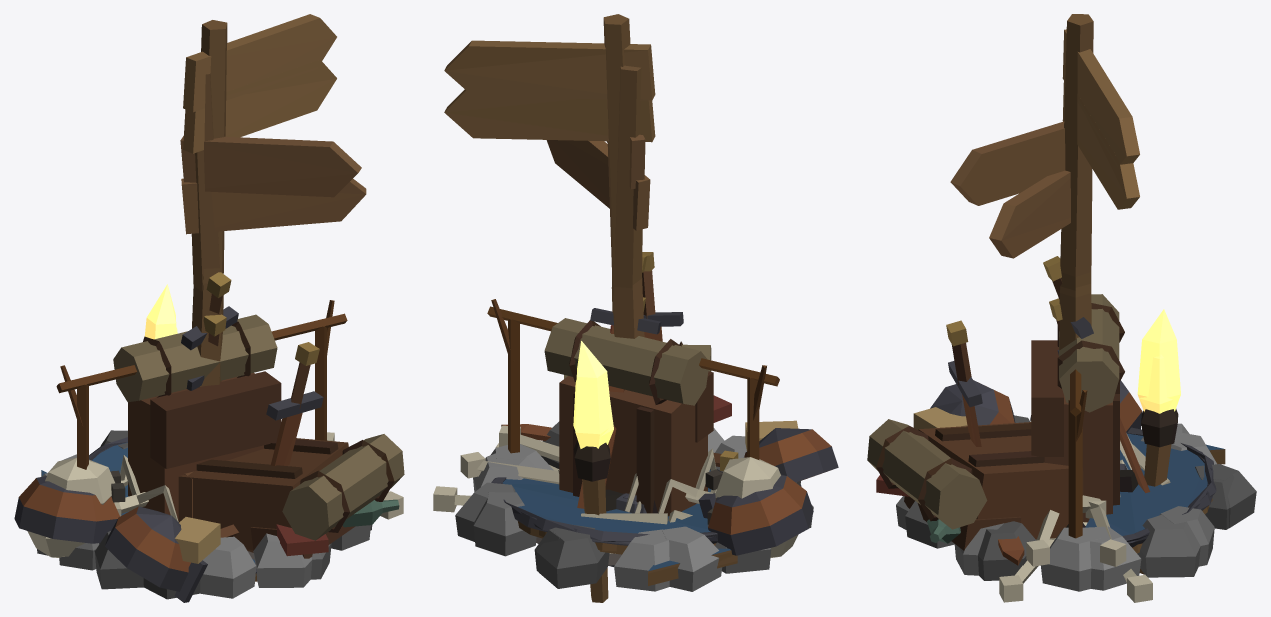
Rendered from relics.glb.
3 views of the same model, side by side, from view 1: azimuth 30°, elevation 25°; view 2: azimuth 150°, elevation 25°; view 3: azimuth 270°, elevation 25° (orthographic). The views are drawn at different scales.
Parts seen in each view (by area): view 1: relics_abandoned_pack_a, relics_abandoned_pack_b, relics_signpost_b, relics_signpost_a, relics_adventurer_remains_a, relics_old_campfire_b, relics_adventurer_remains_b, relics_old_campfire_a, relics_sword_in_ground_b, relics_torch_sconce_b, relics_broken_shield_b, relics_sword_in_ground_a; view 2: relics_abandoned_pack_a, relics_signpost_a, relics_signpost_b, relics_old_campfire_b, relics_old_campfire_a, relics_adventurer_remains_a, relics_adventurer_remains_b, relics_broken_shield_b, relics_torch_sconce_b, relics_torch_sconce_a, relics_broken_shield_a, relics_abandoned_pack_b (+1 smaller); view 3: relics_abandoned_pack_b, relics_signpost_b, relics_abandoned_pack_a, relics_old_campfire_b, relics_signpost_a, relics_old_campfire_a, relics_broken_shield_b, relics_adventurer_remains_a, relics_adventurer_remains_b, relics_torch_sconce_a, relics_torch_sconce_b, relics_sword_in_ground_b (+1 smaller).
Boxes of the visible parts, left/top/right/bottom form: relics_abandoned_pack_a: left=113, top=314, right=281, bottom=520; relics_abandoned_pack_b: left=175, top=434, right=404, bottom=563; relics_signpost_b: left=180, top=14, right=361, bottom=387; relics_signpost_a: left=181, top=59, right=366, bottom=384; relics_adventurer_remains_a: left=45, top=432, right=334, bottom=602; relics_old_campfire_b: left=37, top=300, right=372, bottom=598; relics_adventurer_remains_b: left=14, top=342, right=403, bottom=557; relics_old_campfire_a: left=42, top=430, right=370, bottom=599; relics_sword_in_ground_b: left=181, top=272, right=238, bottom=350; relics_torch_sconce_b: left=144, top=284, right=176, bottom=339; relics_broken_shield_b: left=41, top=437, right=257, bottom=581; relics_sword_in_ground_a: left=186, top=314, right=226, bottom=390; relics_abandoned_pack_a: left=544, top=318, right=713, bottom=516; relics_signpost_a: left=444, top=65, right=655, bottom=336; relics_signpost_b: left=444, top=14, right=655, bottom=338; relics_old_campfire_b: left=455, top=299, right=813, bottom=591; relics_old_campfire_a: left=473, top=428, right=800, bottom=591; relics_adventurer_remains_a: left=460, top=424, right=838, bottom=524; relics_adventurer_remains_b: left=433, top=252, right=813, bottom=558; relics_broken_shield_b: left=491, top=470, right=737, bottom=578; relics_torch_sconce_b: left=574, top=341, right=610, bottom=481; relics_torch_sconce_a: left=573, top=380, right=614, bottom=602; relics_broken_shield_a: left=513, top=493, right=737, bottom=585; relics_abandoned_pack_b: left=564, top=341, right=798, bottom=450; relics_abandoned_pack_b: left=867, top=407, right=1083, bottom=550; relics_signpost_b: left=950, top=14, right=1139, bottom=349; relics_abandoned_pack_a: left=1031, top=294, right=1124, bottom=522; relics_old_campfire_b: left=905, top=369, right=1234, bottom=590; relics_signpost_a: left=989, top=81, right=1139, bottom=349; relics_old_campfire_a: left=896, top=423, right=1256, bottom=591; relics_broken_shield_b: left=1085, top=427, right=1225, bottom=551; relics_adventurer_remains_a: left=930, top=380, right=1170, bottom=566; relics_adventurer_remains_b: left=946, top=320, right=1152, bottom=602; relics_torch_sconce_a: left=1139, top=354, right=1173, bottom=574; relics_torch_sconce_b: left=1137, top=309, right=1180, bottom=444; relics_sword_in_ground_b: left=1043, top=256, right=1150, bottom=493.
Bounding box in the file's own units: 0.8717 × 1.32 × 0.8327.
